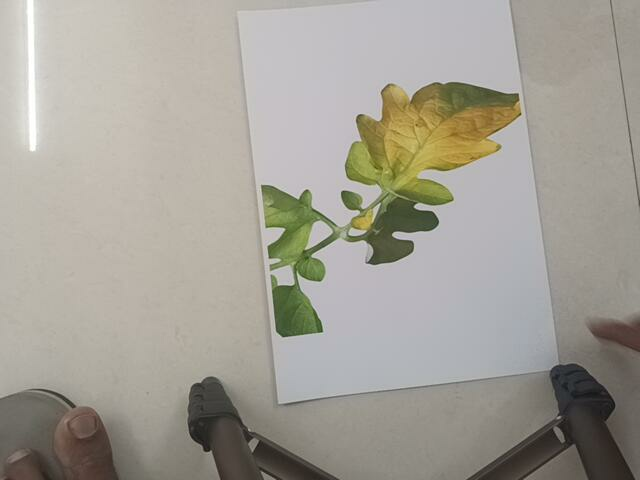Tomamto_Yellow_Disease: (261, 81, 528, 341)
